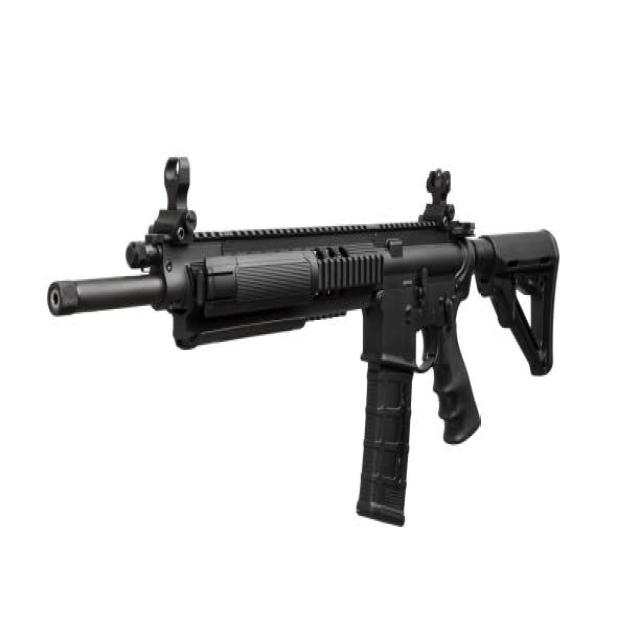rifle: (41, 152, 564, 537)
